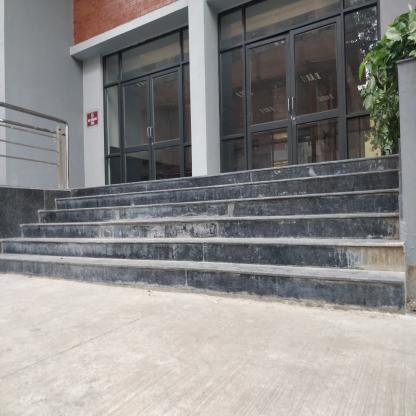stairs: (50, 190, 392, 298)
